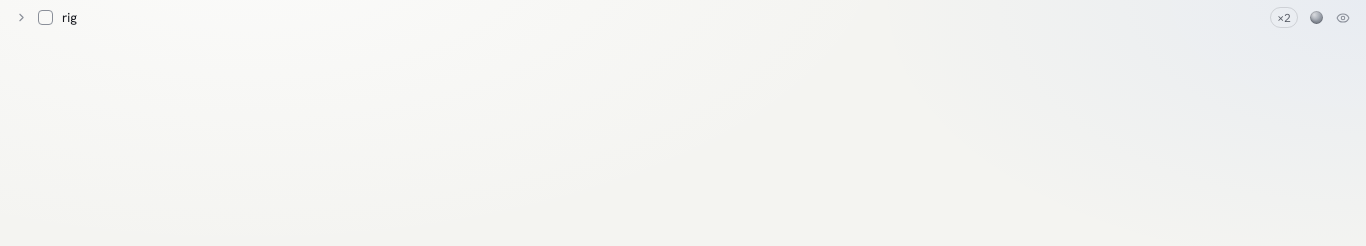
Test case: AssemblyTree instanced sub-assembly › expanding reveals each placement's real internals, not just a frame list
Click the button named "Show rig placements" at (22, 18), box [14,10,29,25]
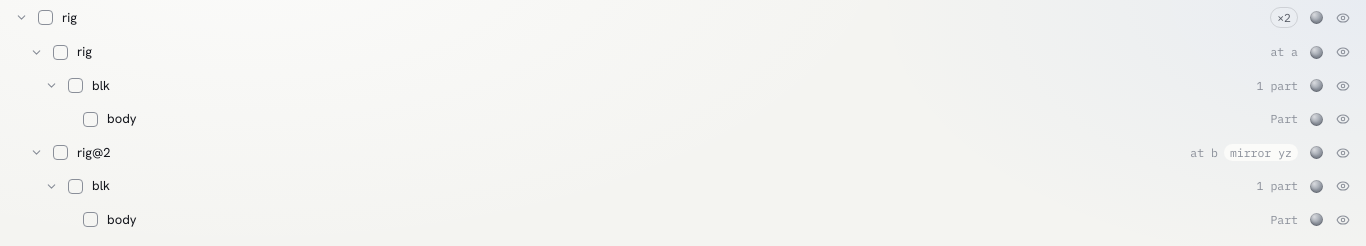
expect the text "rig@2" is shown: met, box [77,143,111,162]
expect the text "at b" is shown: met, box [1190,144,1218,161]
expect the text "mirror yz" is shown: met, box [1224,144,1298,161]
